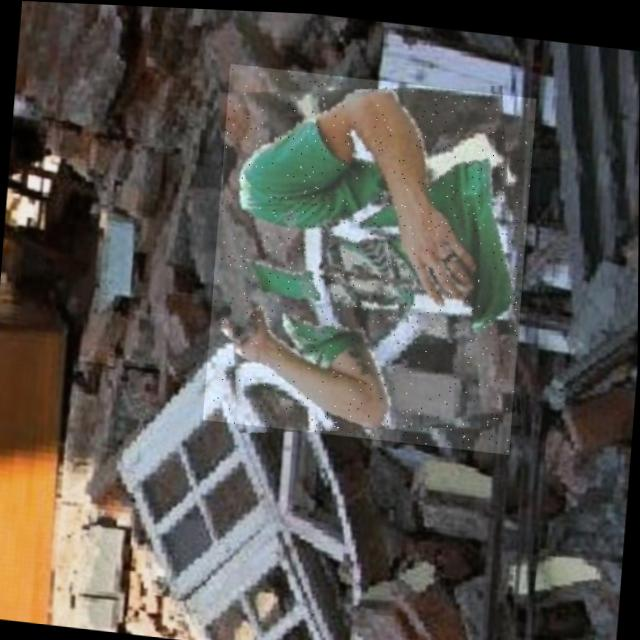Person in Rubble: (203, 59, 536, 450)
